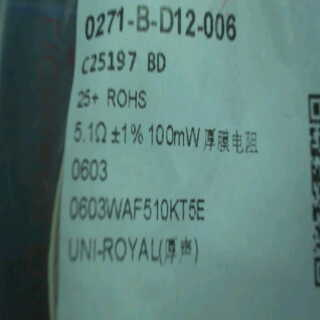5.1R: (73, 117, 113, 148)
